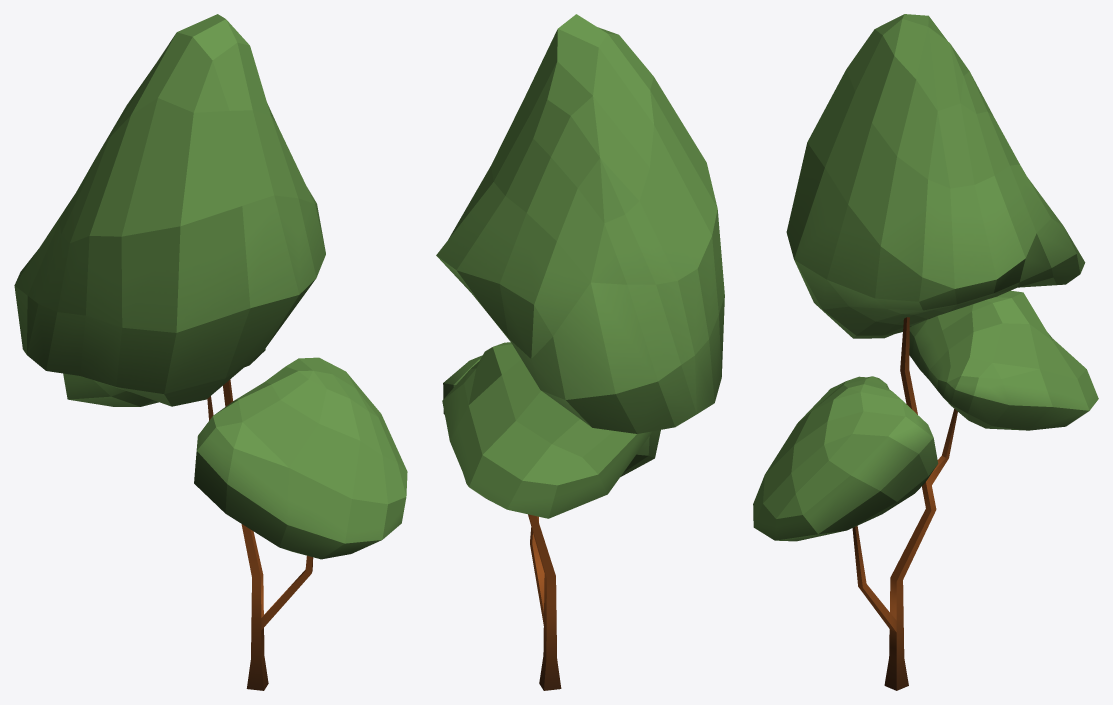
The model's file is Tree_Sml-04.FBX.
3 views of the same model, side by side, from view 1: azimuth 30°, elevation 25°; view 2: azimuth 150°, elevation 25°; view 3: azimuth 270°, elevation 25° (orthographic). The views are drawn at different scales.
Visible parts, largest first — view 1: Tree_Sml-04; view 2: Tree_Sml-04; view 3: Tree_Sml-04.
Part boxes in pixels (<box>): Tree_Sml-04: <box>14,14,407,690</box>; Tree_Sml-04: <box>436,14,724,690</box>; Tree_Sml-04: <box>753,14,1098,690</box>.
Size of the model in its own units: 84.92 by 184 by 88.31.
1 material, 1 textured.
